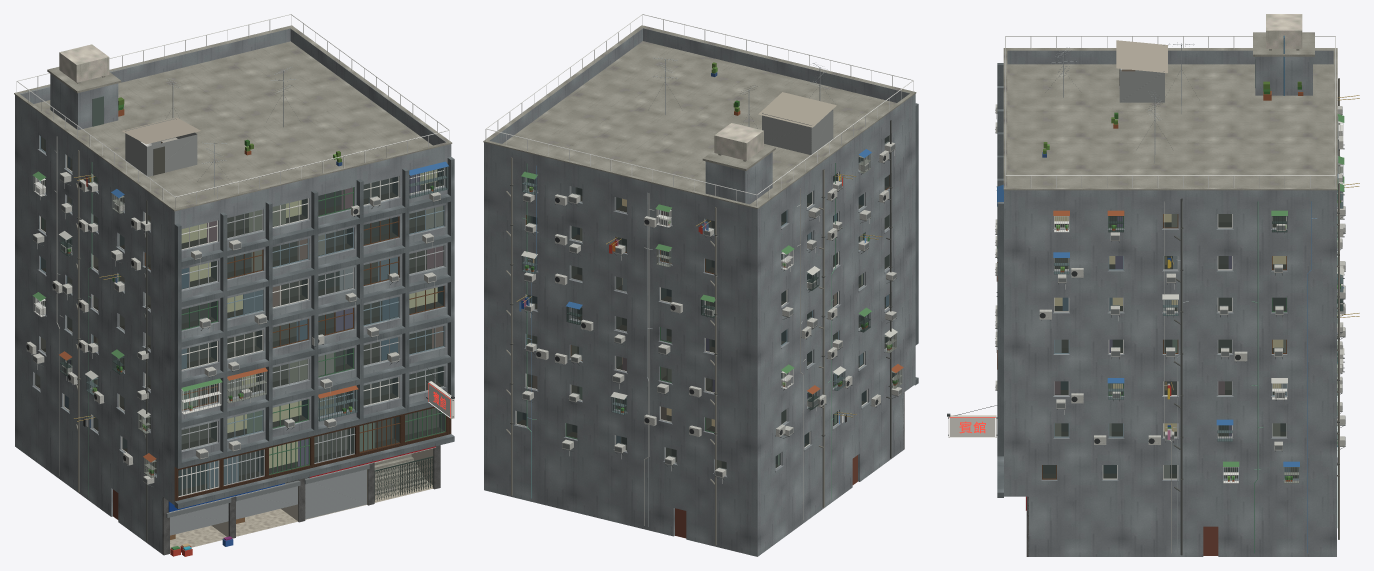
Rendered from hk-cantilever-walkup.glb.
3 renders of one model, left to right at view 1: azimuth 30°, elevation 25°; view 2: azimuth 150°, elevation 25°; view 3: azimuth 270°, elevation 25°, orthographic. The views are drawn at different scales.
Parts seen in each view (by area): view 1: Building_wall, Building_slab, Building_glass, Building_fin, Building_room, Building_vc, Building_metal, Building_frame, Building_shutter, Building_ac, Building_lit_warm, Building_wood (+5 smaller); view 2: Building_wall, Building_slab, Building_vc, Building_metal, Building_glass, Building_ac, Building_room, Building_tin, Building_frame, Building_tank, Building_fin; view 3: Building_wall, Building_slab, Building_vc, Building_metal, Building_glass, Building_ac, Building_room, Building_fin, Building_frame, Building_tin, Building_tank, Building_board (+1 smaller).
Part boxes in pixels (bbox=[...]): Building_wall: bbox=[15, 28, 451, 554]; Building_slab: bbox=[14, 25, 452, 495]; Building_glass: bbox=[35, 137, 444, 495]; Building_fin: bbox=[174, 157, 454, 508]; Building_room: bbox=[35, 137, 444, 536]; Building_vc: bbox=[32, 97, 448, 556]; Building_metal: bbox=[16, 14, 454, 519]; Building_frame: bbox=[34, 136, 445, 497]; Building_shutter: bbox=[170, 469, 366, 535]; Building_ac: bbox=[26, 172, 440, 484]; Building_lit_warm: bbox=[182, 169, 437, 467]; Building_wood: bbox=[174, 406, 451, 501]; Building_wall: bbox=[484, 28, 915, 556]; Building_slab: bbox=[483, 25, 916, 208]; Building_vc: bbox=[506, 62, 903, 545]; Building_metal: bbox=[485, 14, 913, 538]; Building_glass: bbox=[516, 135, 895, 474]; Building_ac: bbox=[522, 142, 901, 477]; Building_room: bbox=[517, 135, 894, 468]; Building_tin: bbox=[762, 109, 833, 154]; Building_frame: bbox=[515, 135, 895, 475]; Building_tank: bbox=[714, 123, 763, 160]; Building_fin: bbox=[914, 103, 918, 385]; Building_wall: bbox=[1004, 49, 1338, 556]; Building_slab: bbox=[1003, 32, 1337, 190]; Building_vc: bbox=[996, 35, 1344, 555]; Building_metal: bbox=[947, 36, 1345, 555]; Building_glass: bbox=[1042, 214, 1298, 478]; Building_ac: bbox=[995, 104, 1345, 450]; Building_room: bbox=[1043, 69, 1298, 478]; Building_fin: bbox=[997, 63, 1003, 497]; Building_frame: bbox=[1042, 69, 1298, 479]; Building_tin: bbox=[1119, 45, 1164, 102]; Building_tank: bbox=[1266, 14, 1302, 48]; Building_board: bbox=[948, 415, 1026, 510].
Size of the model in its own units: 25 by 30.35 by 27.27.
Materials: 21 (10 with a texture image).
